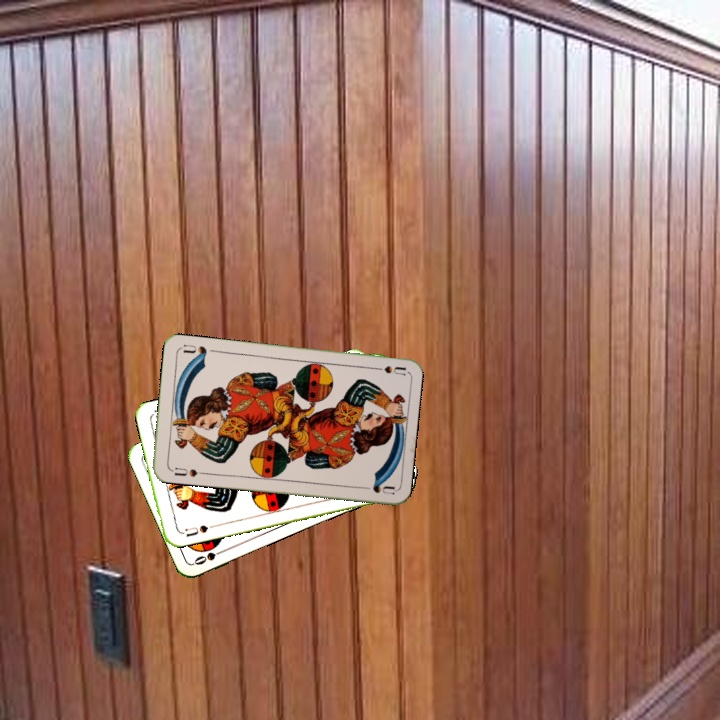SO: (190, 545, 229, 568)
SU: (166, 463, 207, 479), (366, 362, 407, 377), (181, 521, 210, 540)
